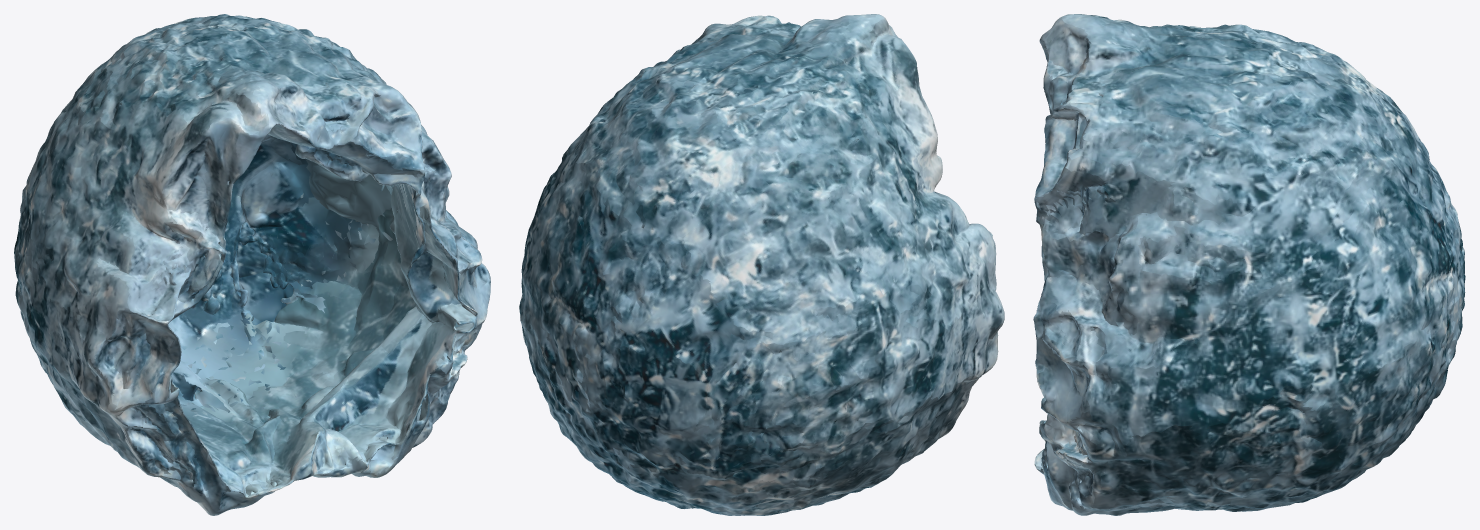
The model's file is ice-fragment-v13.glb.
The picture shows the model from 3 angles, left to right: view 1: azimuth 30°, elevation 25°; view 2: azimuth 150°, elevation 25°; view 3: azimuth 270°, elevation 25°; orthographic projection. The views are drawn at different scales.
Visible parts, largest first — view 1: geometry_0; view 2: geometry_0; view 3: geometry_0.
Boxes of the visible parts, box(x1,y1,x2,y2) form: geometry_0: box(14, 14, 490, 515); geometry_0: box(519, 14, 1004, 515); geometry_0: box(1033, 14, 1465, 515).
Size of the model in its own units: 0.12 by 0.1214 by 0.1078.
Materials: 1 (1 with a texture image).
